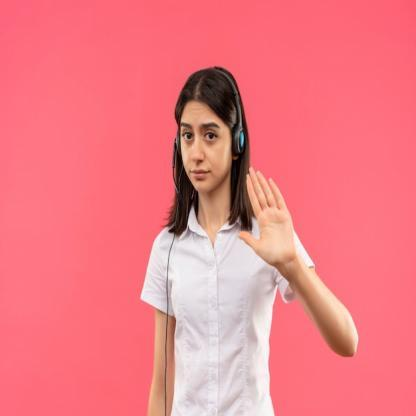stop: (235, 163, 298, 269)
